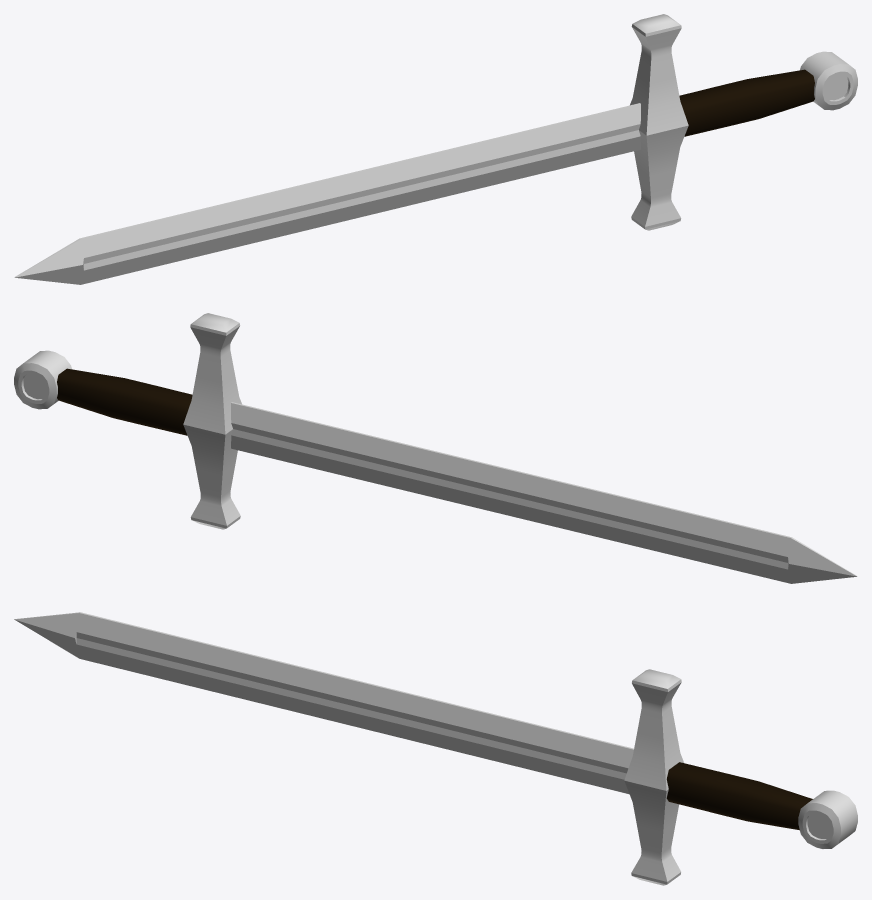
Rendered from sword export unity.fbx.
3 renders of one model, top to bottom at view 1: azimuth 30°, elevation 25°; view 2: azimuth 150°, elevation 25°; view 3: azimuth 330°, elevation 25°, orthographic.
Visible parts, largest first — view 1: lame, garde, poignée, pommeau; view 2: lame, garde, poignée, pommeau; view 3: lame, garde, poignée, pommeau.
Boxes of the visible parts, left/top/right/bottom form: lame: left=14, top=103, right=640, bottom=284; garde: left=630, top=14, right=688, bottom=230; poignée: left=679, top=69, right=814, bottom=136; pommeau: left=800, top=51, right=857, bottom=110; lame: left=231, top=402, right=857, bottom=583; garde: left=183, top=313, right=241, bottom=529; poignée: left=57, top=368, right=192, bottom=435; pommeau: left=14, top=350, right=71, bottom=409; lame: left=14, top=612, right=633, bottom=794; garde: left=624, top=669, right=683, bottom=885; poignée: left=666, top=762, right=812, bottom=830; pommeau: left=798, top=790, right=857, bottom=848.
Bounding box in the file's own units: 4431 × 1036 × 205.
